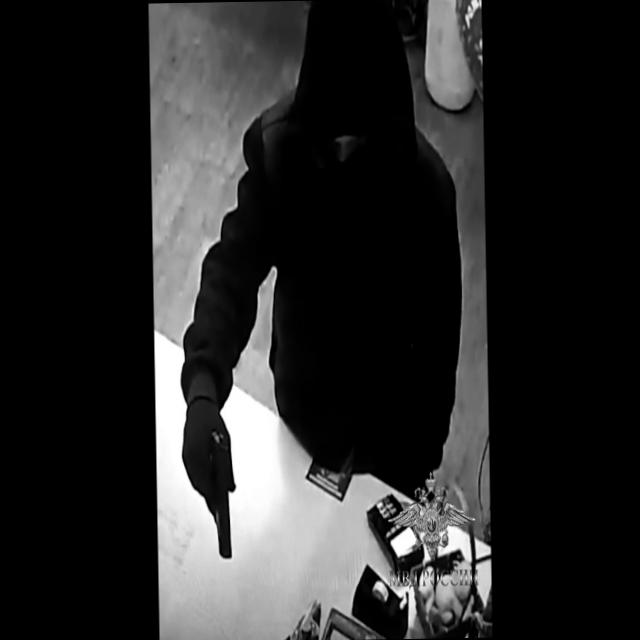gun: (178, 405, 242, 566)
person with a gun: (172, 19, 466, 566)
